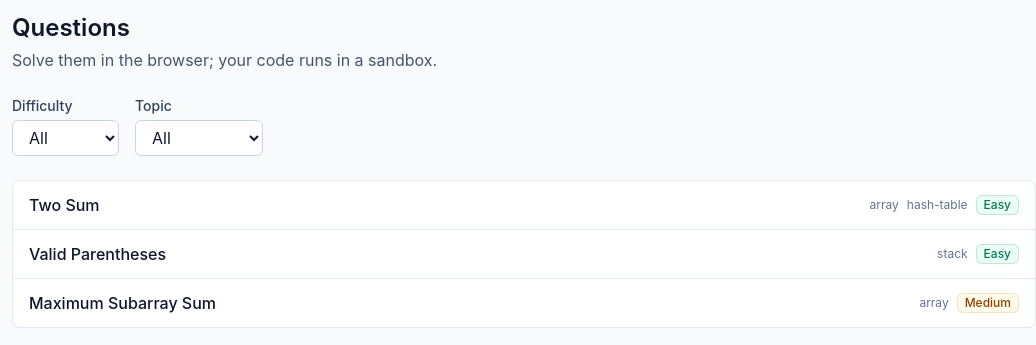
QuestionsPage › filters by difficulty
Expected: the link "Two Sum array hash-table Easy" is shown, [29,195,1019,215]
Select "Medium" in the dropdown labelled "Difficulty" at coordinates (66, 138), box [12,120,119,156]
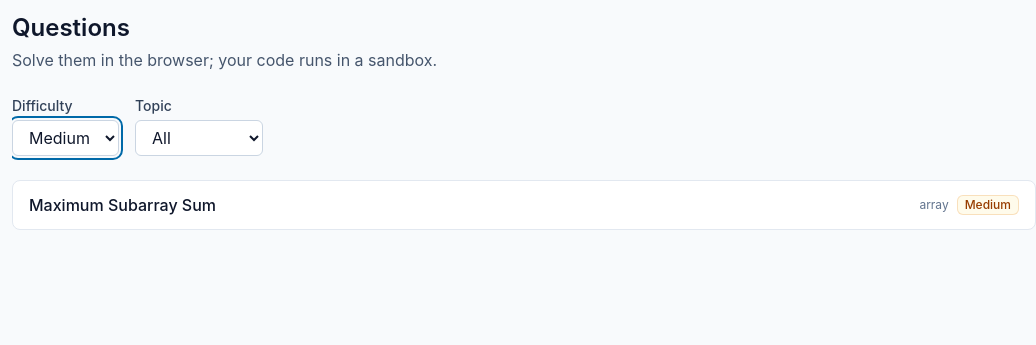
Expected: the link "Maximum Subarray Sum array Medium" is shown, [29,195,1019,215]
Expected: the link "Two Sum" is gone
